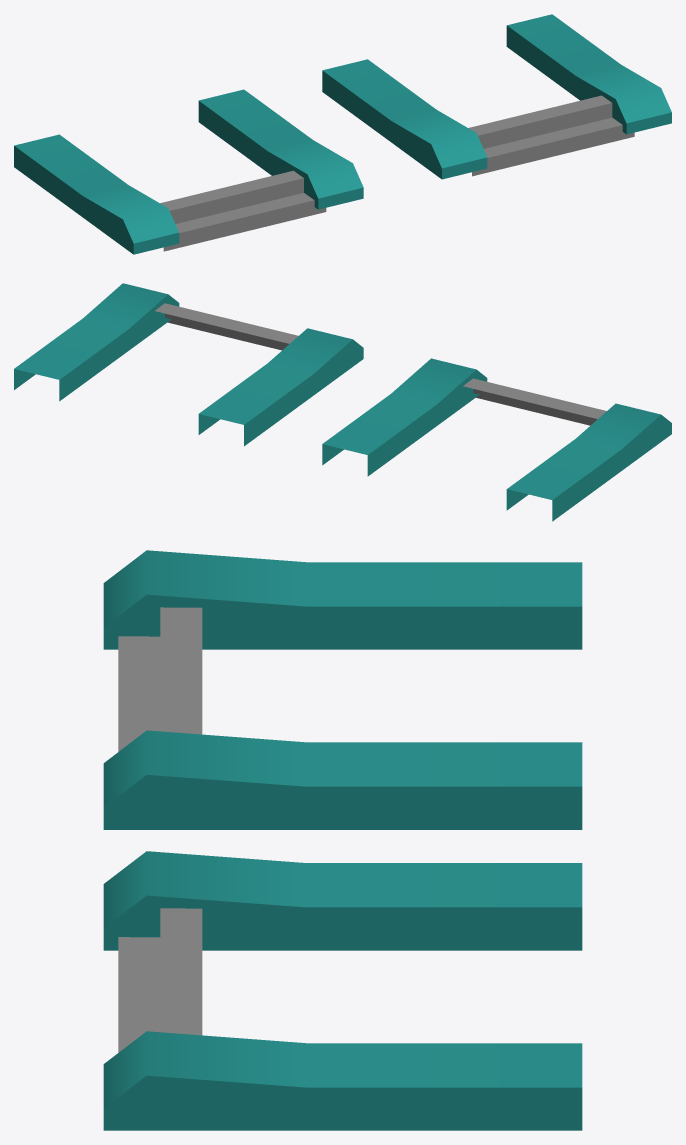
The model's file is wall a2 podium.FBX.
3 renders of one model, top to bottom at view 1: azimuth 30°, elevation 25°; view 2: azimuth 150°, elevation 25°; view 3: azimuth 270°, elevation 25°, orthographic. The views are drawn at different scales.
Visible parts, largest first — view 1: Box056; view 2: Box056; view 3: Box056.
Boxes of the visible parts, <box> form: Box056: <box>14,14,671,254</box>; Box056: <box>14,283,671,521</box>; Box056: <box>103,550,582,1130</box>.
Size of the model in its own units: 5.82 by 0.3654 by 2.24.
